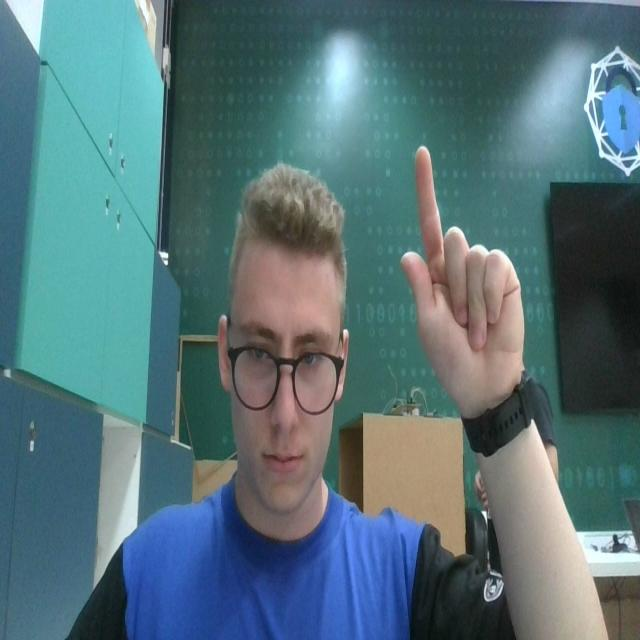G: (396, 142, 530, 407)
